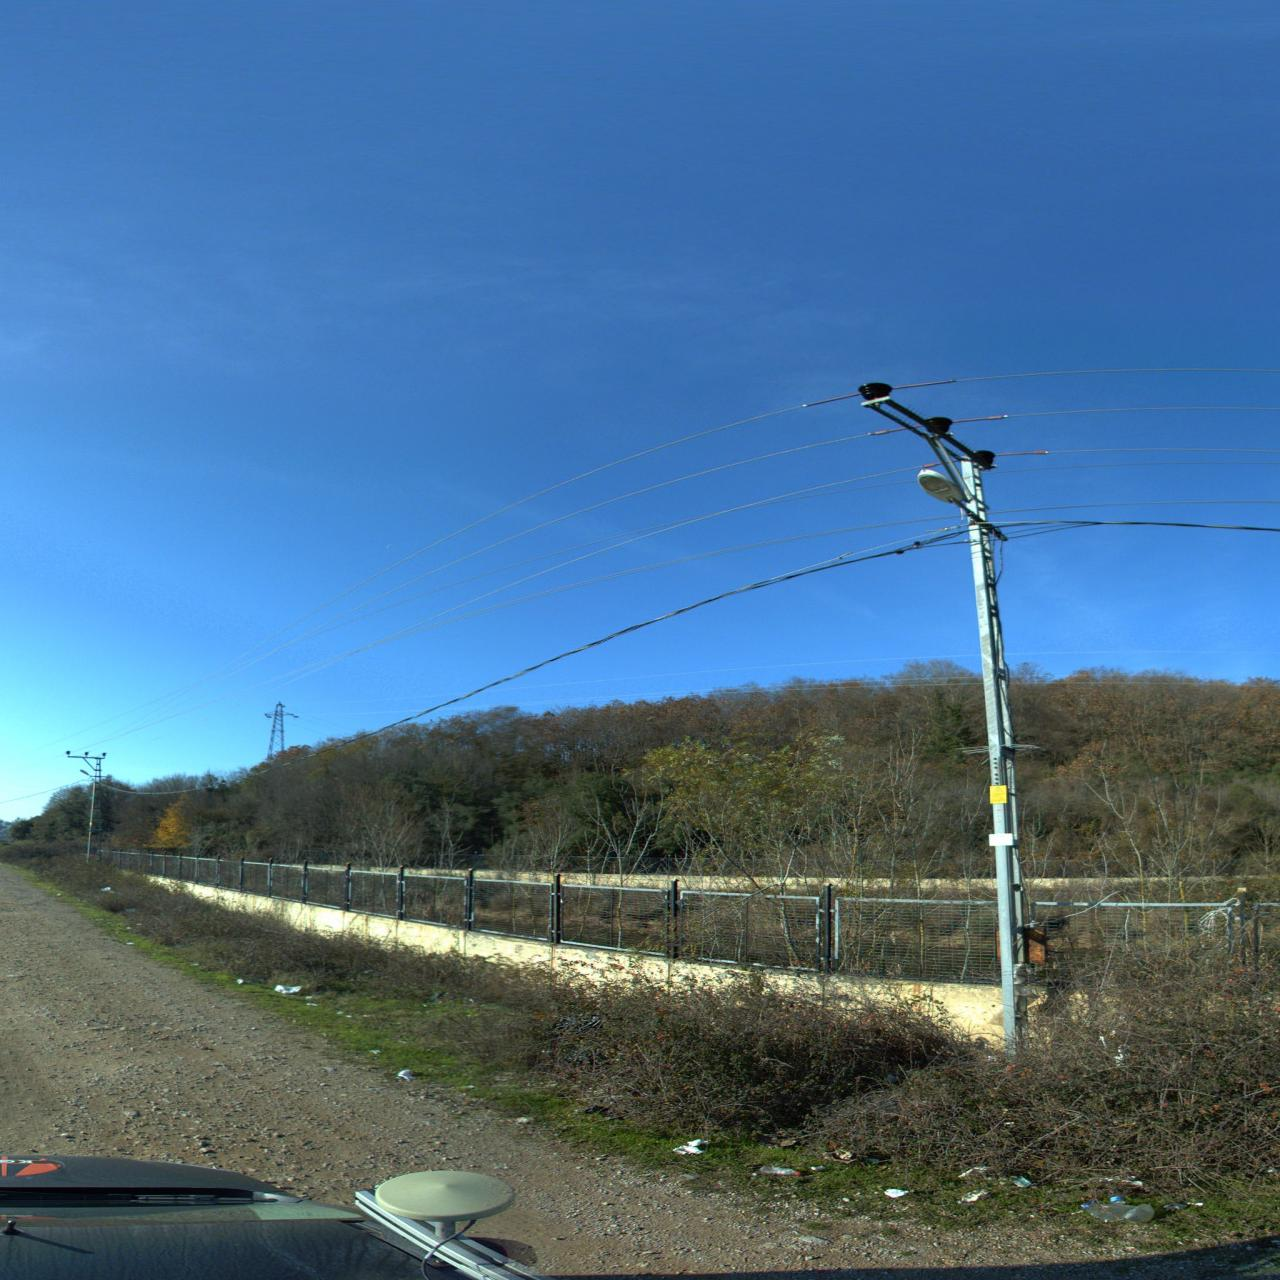Utility Pole Information Plate: (988, 787, 1007, 803)
